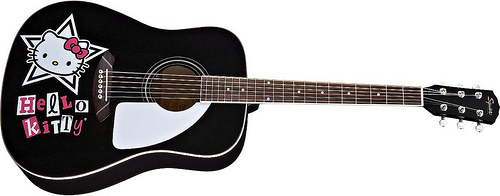guitar: (1, 1, 500, 196)
